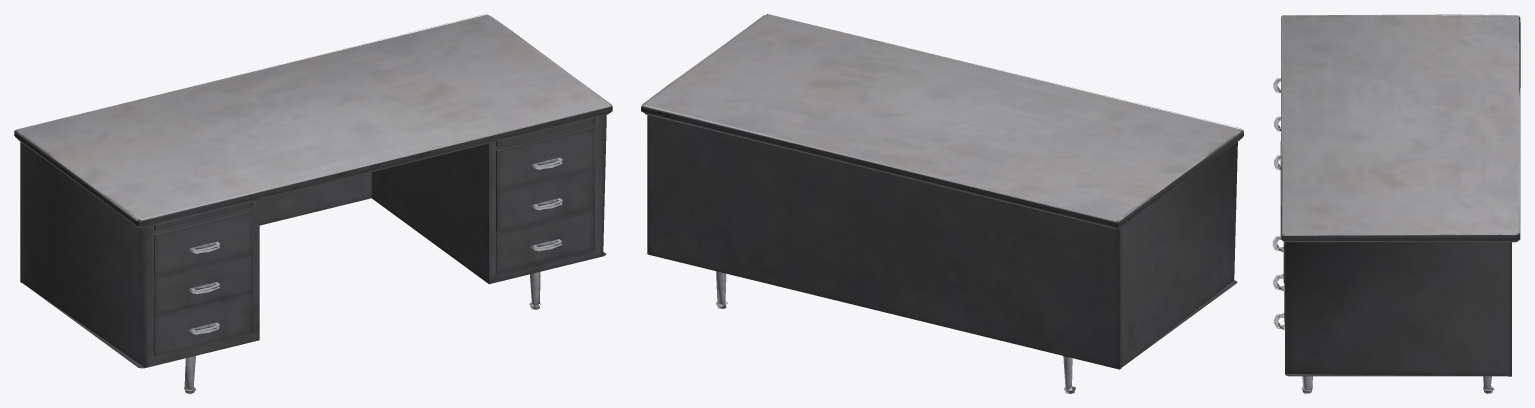
Rendered from Desk_Metal.fbx.
3 renders of one model, left to right at view 1: azimuth 30°, elevation 25°; view 2: azimuth 150°, elevation 25°; view 3: azimuth 270°, elevation 25°, orthographic. The views are drawn at different scales.
Parts seen in each view (by area): view 1: СТОЛ ПИЗДАТЫЙ, Drawer_L1, Drawer_R1, Drawer_R3, Drawer_R2, Drawer_L3, Drawer_L2, Tray_L, Tray_R; view 2: СТОЛ ПИЗДАТЫЙ; view 3: СТОЛ ПИЗДАТЫЙ.
Boxes of the visible parts, bbox=[...] form: СТОЛ ПИЗДАТЫЙ: bbox=[14, 14, 612, 393]; Drawer_L1: bbox=[154, 210, 252, 275]; Drawer_R1: bbox=[496, 127, 594, 191]; Drawer_R3: bbox=[496, 209, 594, 273]; Drawer_R2: bbox=[496, 168, 594, 232]; Drawer_L3: bbox=[154, 292, 252, 356]; Drawer_L2: bbox=[154, 252, 252, 316]; Tray_L: bbox=[154, 201, 252, 230]; Tray_R: bbox=[496, 118, 594, 146]; СТОЛ ПИЗДАТЫЙ: bbox=[641, 14, 1243, 393]; СТОЛ ПИЗДАТЫЙ: bbox=[1280, 14, 1520, 393].
Bounding box in the file's own units: 2 × 0.7923 × 0.9478.
Materials: 1 (1 with a texture image).
